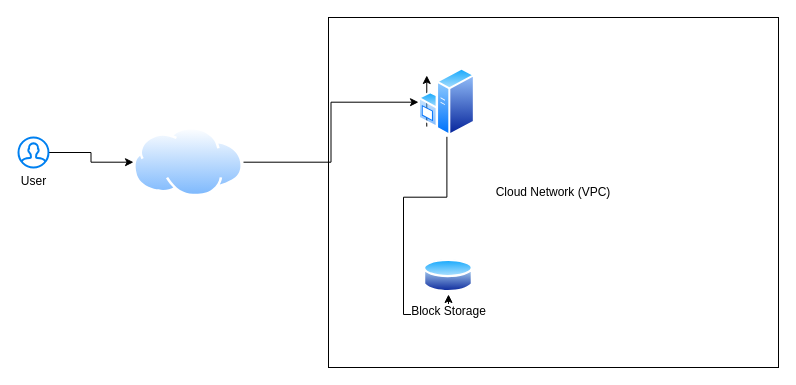
Some shapes in this 796 by 385 pixel diagram are drawn without their labels. Here are the shapes that lost their labels. From the top down, the centre of each, then its label:
At point 446,101: "Linux VM".
At point 188,161: "INTERNET CONNECTION".
